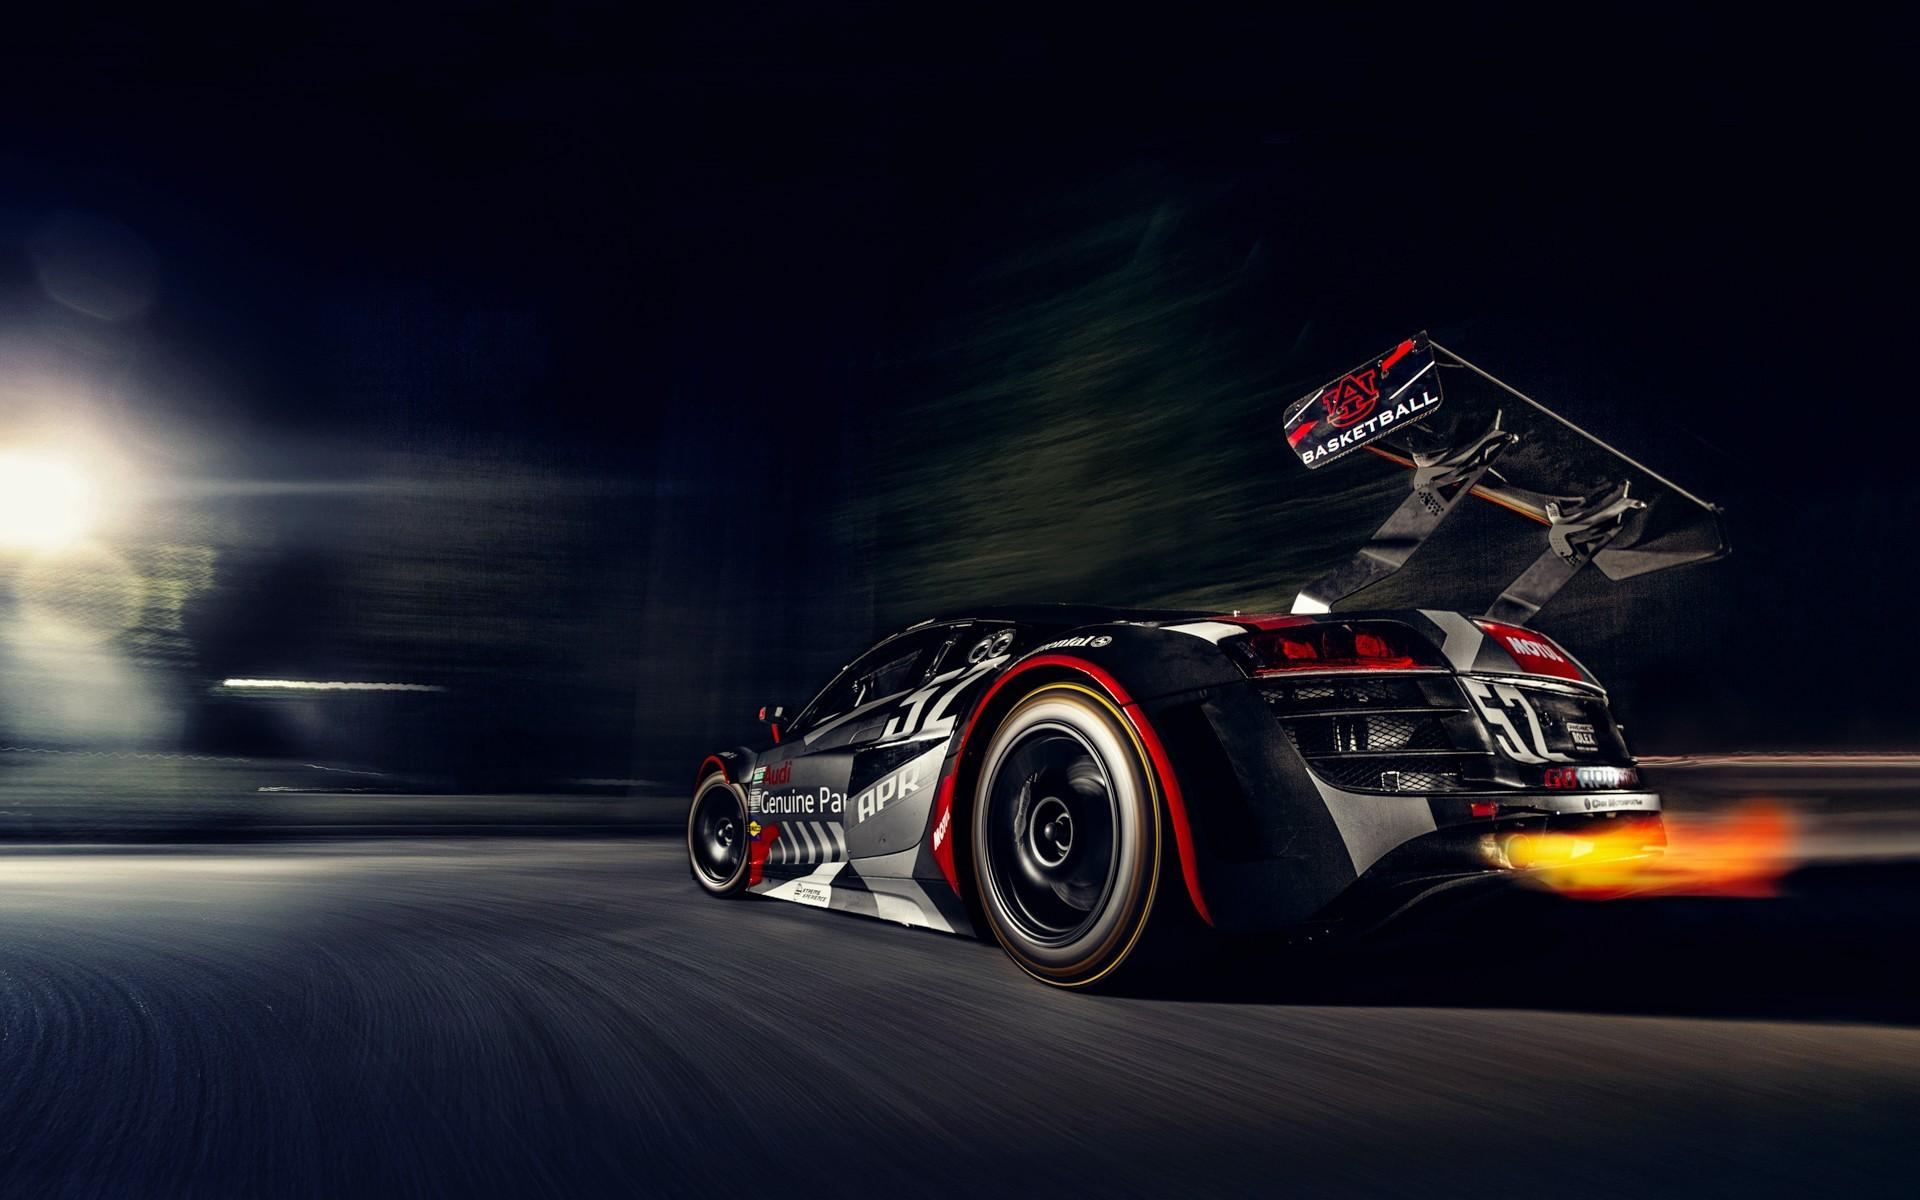Car: (480, 430, 1790, 1042)
